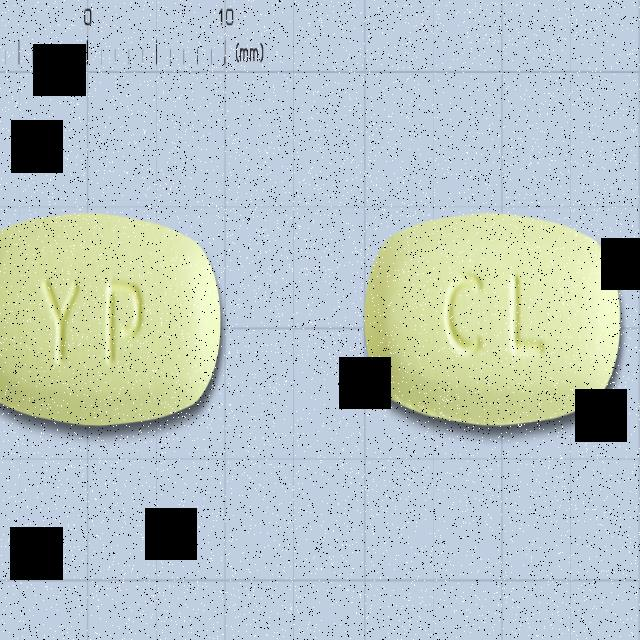Clarithromycin Tab- Youngpoong: (363, 215, 622, 429), (0, 210, 222, 429)
